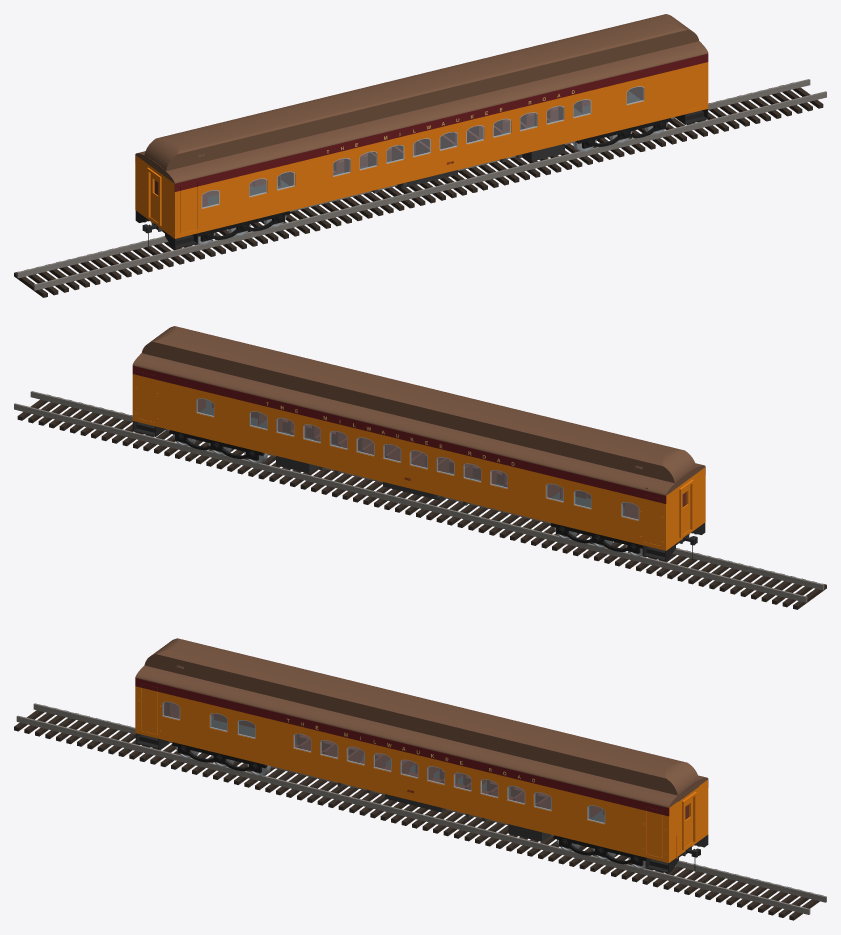
Rendered from MR1934_Coach4000_G.glb.
The picture shows the model from 3 angles, top to bottom: view 1: azimuth 30°, elevation 25°; view 2: azimuth 150°, elevation 25°; view 3: azimuth 330°, elevation 25°; orthographic projection.
Visible parts, largest first — view 1: roof, orange, ties, rails, maroon, glass, interior, trucks, rims, steps, floor, equipment (+1 smaller); view 2: roof, orange, ties, rails, maroon, glass, interior, trucks, rims, steps, equipment, floor (+1 smaller); view 3: roof, orange, ties, rails, maroon, glass, interior, trucks, rims, floor, steps, equipment (+1 smaller).
Part boxes in pixels (<box>): roof: <box>135,14,708,183</box>; orange: <box>135,62,708,238</box>; ties: <box>14,82,823,297</box>; rails: <box>16,79,826,290</box>; maroon: <box>135,54,708,191</box>; glass: <box>202,87,643,207</box>; interior: <box>154,87,642,207</box>; trucks: <box>198,118,671,241</box>; rims: <box>201,86,644,208</box>; steps: <box>135,109,708,249</box>; floor: <box>150,91,640,231</box>; equipment: <box>397,144,564,188</box>; roof: <box>132,326,705,495</box>; orange: <box>132,374,705,550</box>; ties: <box>17,394,826,609</box>; rails: <box>14,391,824,602</box>; maroon: <box>132,366,705,503</box>; glass: <box>197,399,638,519</box>; interior: <box>197,399,686,519</box>; trucks: <box>169,430,642,553</box>; rims: <box>196,398,639,520</box>; steps: <box>132,421,705,561</box>; equipment: <box>276,456,443,500</box>; floor: <box>200,400,690,543</box>; roof: <box>135,638,708,807</box>; orange: <box>135,686,708,863</box>; ties: <box>14,705,821,920</box>; rails: <box>16,703,826,914</box>; maroon: <box>135,678,708,816</box>; glass: <box>163,702,604,822</box>; interior: <box>163,702,688,819</box>; trucks: <box>172,742,645,865</box>; rims: <box>162,701,605,824</box>; floor: <box>211,715,692,856</box>; steps: <box>135,733,708,873</box>; equipment: <box>385,794,551,841</box>.
Size of the model in its own units: 1.23 by 0.1609 by 0.1064.
